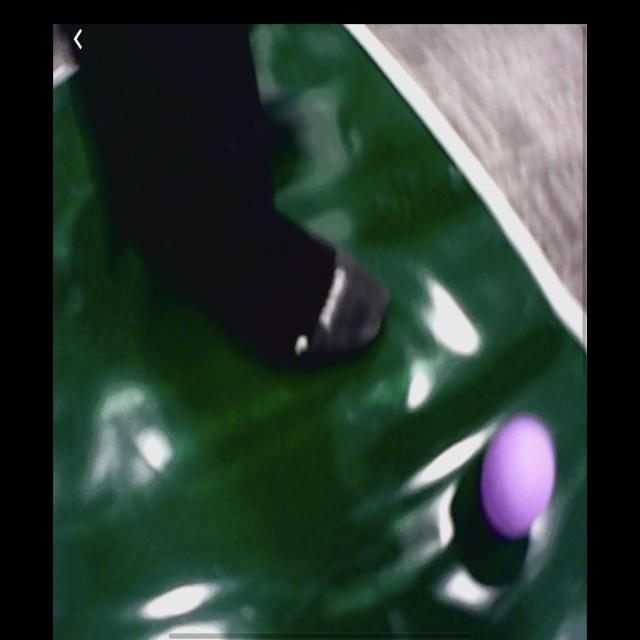ball: (479, 413, 558, 542)
